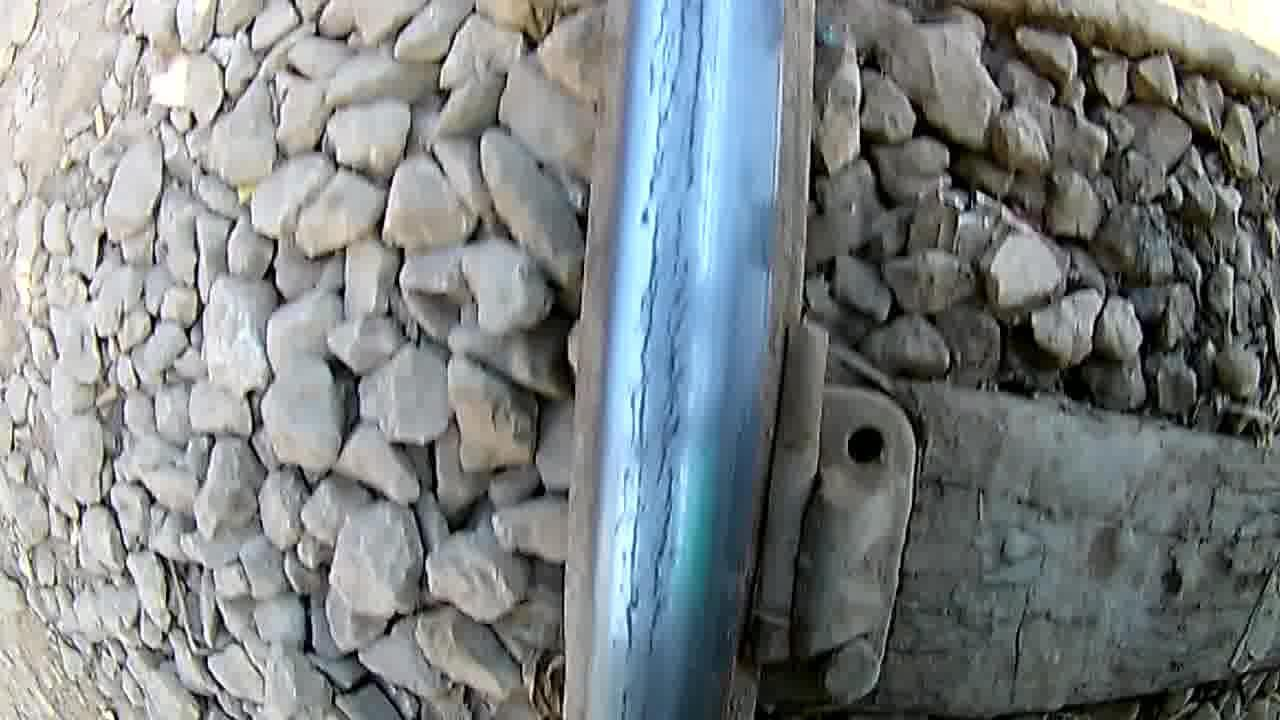crack: (608, 3, 698, 720)
